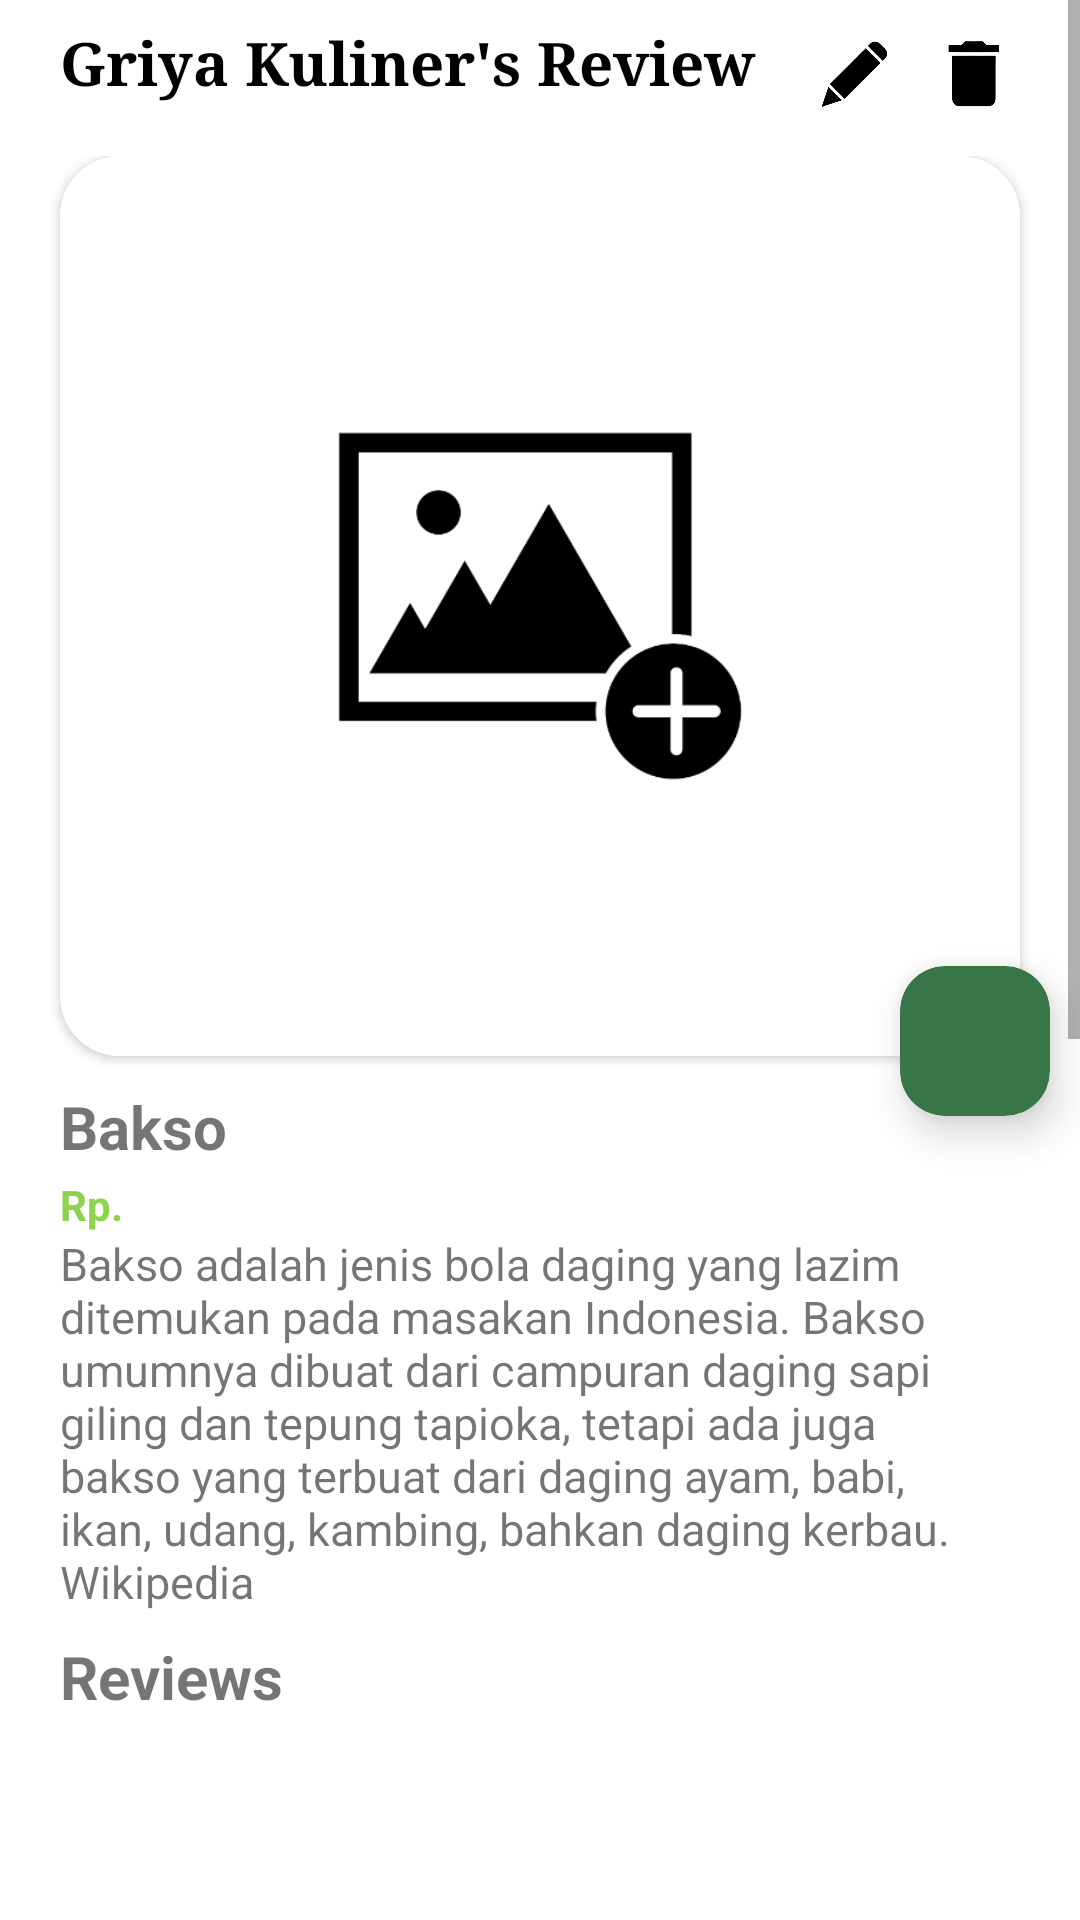

Point at icon controls on the screen. Image size 1080px×1920px, points as [x,y].
delete: [973,73]
edit username: [854,74]
